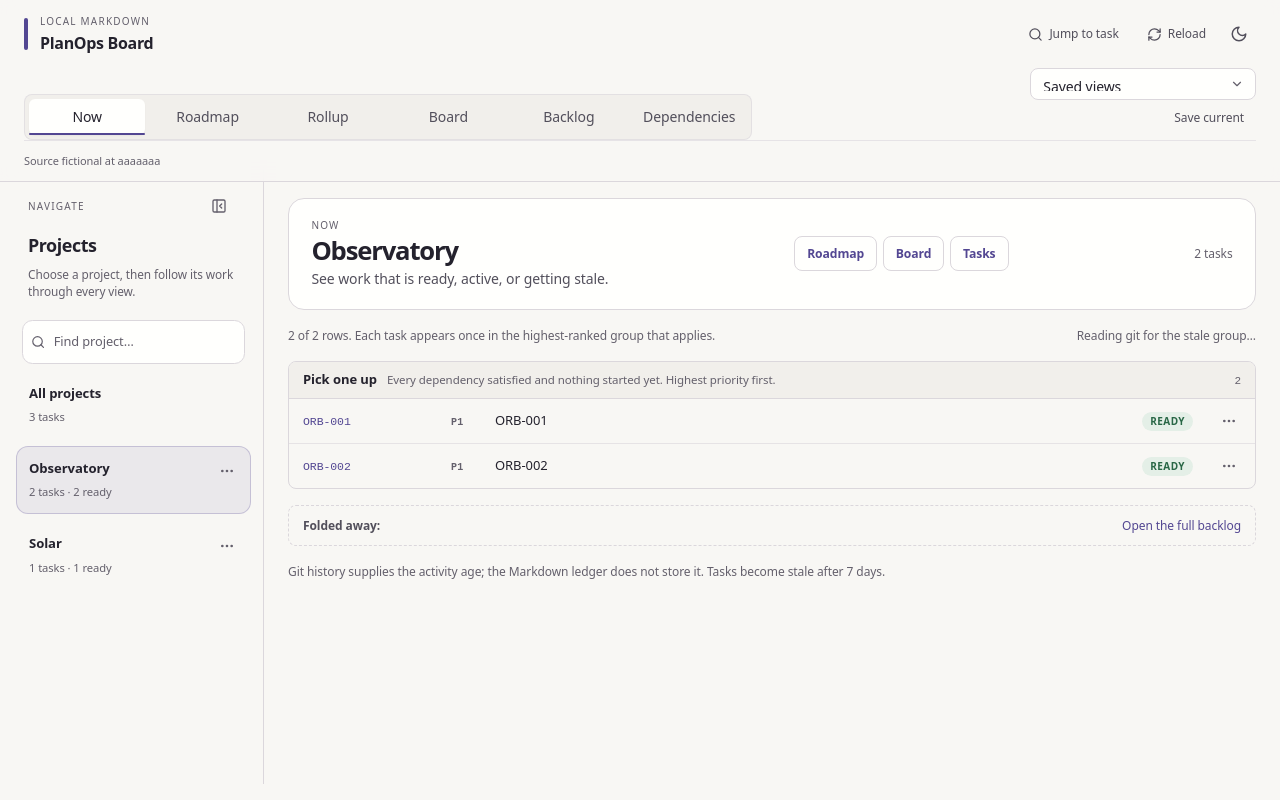
task actions in now › shows dependencies in the graph focused on the task
Click the button named "Actions for ORB-001". click: point(1229, 420)
box: [1207,398,1251,442]
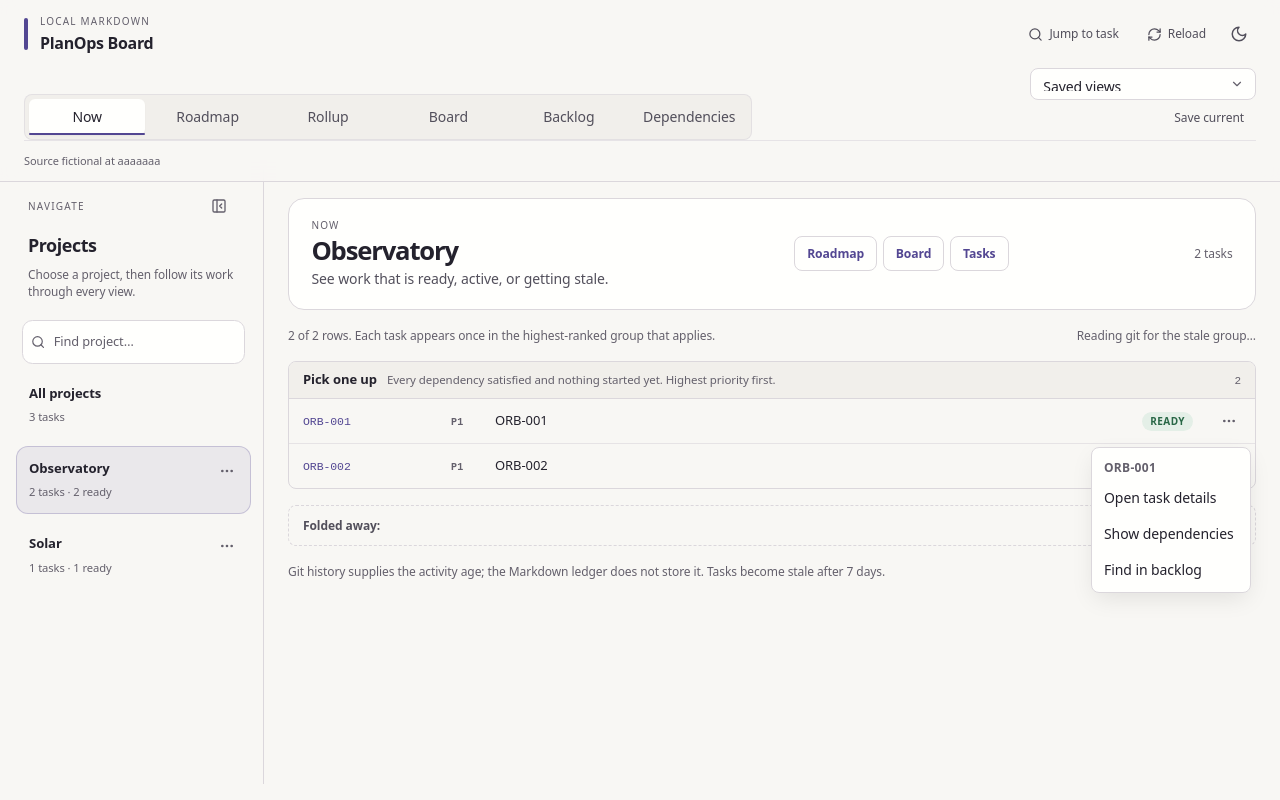
Click the menu item "Show dependencies". click: point(1171, 534)
box: [1092,516,1250,552]
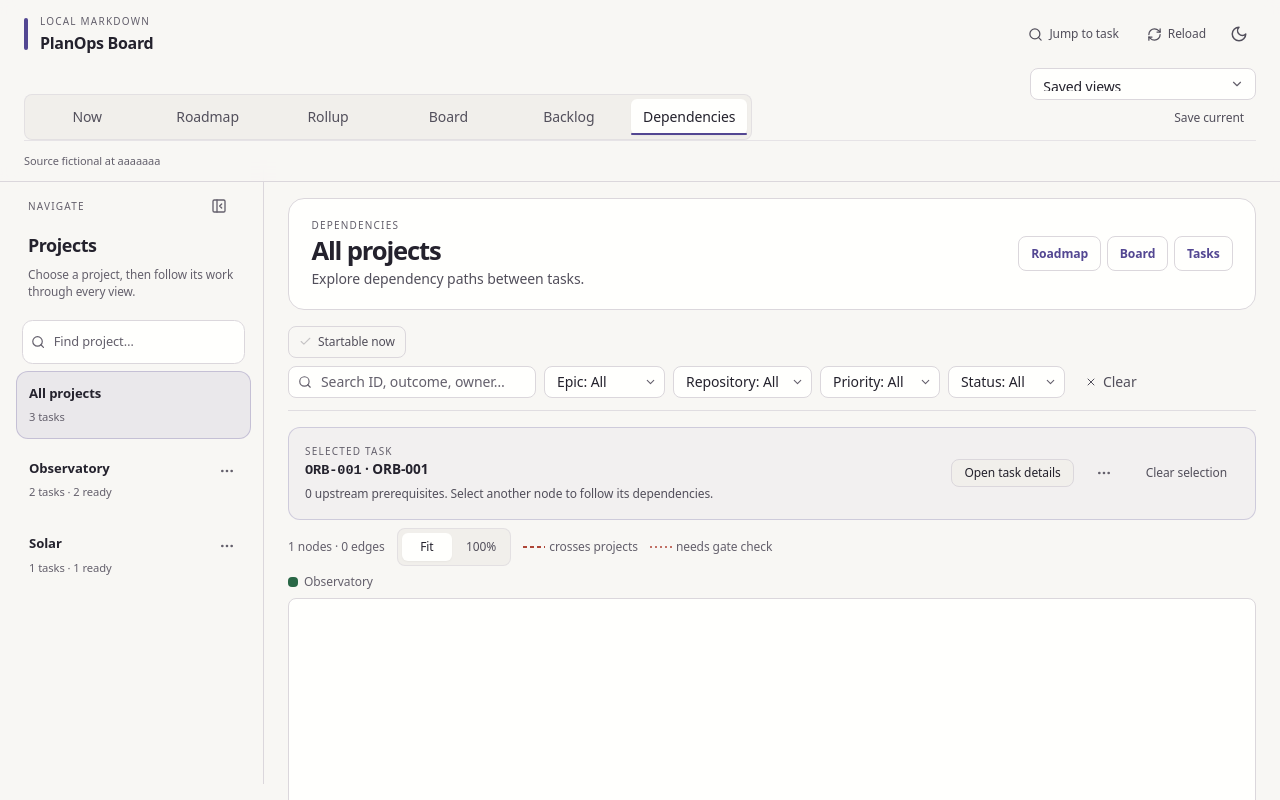
Check: the radio button labelled "Dependencies" is checked, box [631,99,747,135]
